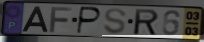6: (161, 9, 181, 36)
A: (21, 6, 50, 33)
F: (48, 6, 74, 34)
P: (75, 6, 103, 35)
R: (134, 8, 160, 37)
S: (103, 7, 128, 35)
